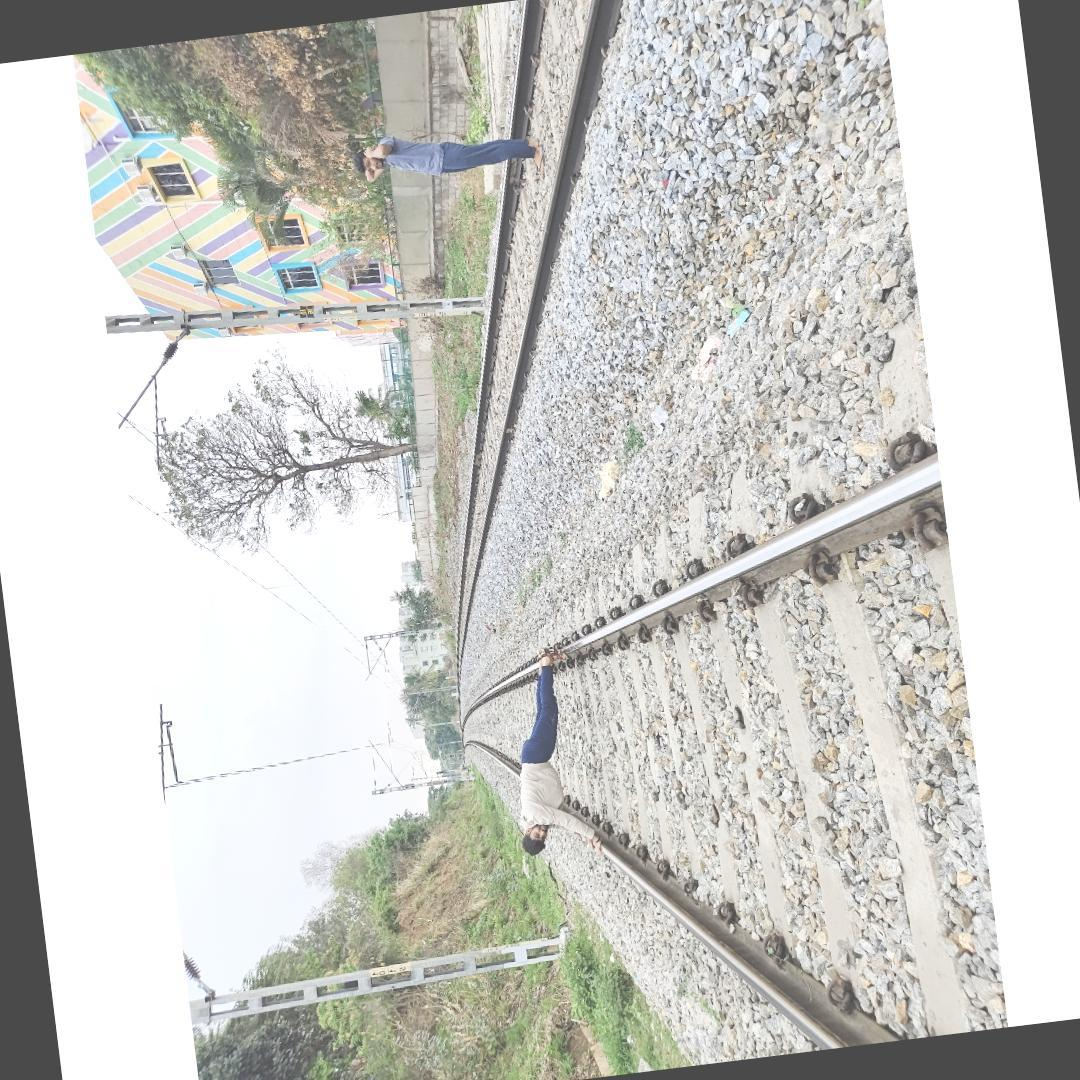sleeping: (496, 645, 606, 861)
standing: (350, 115, 546, 194)
track: (457, 412, 1007, 1048)
